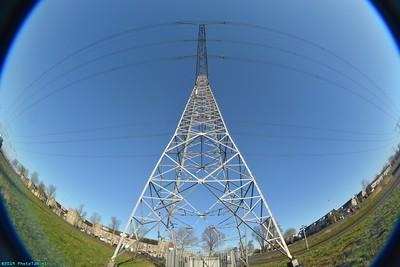power_tower: (110, 19, 301, 267)
